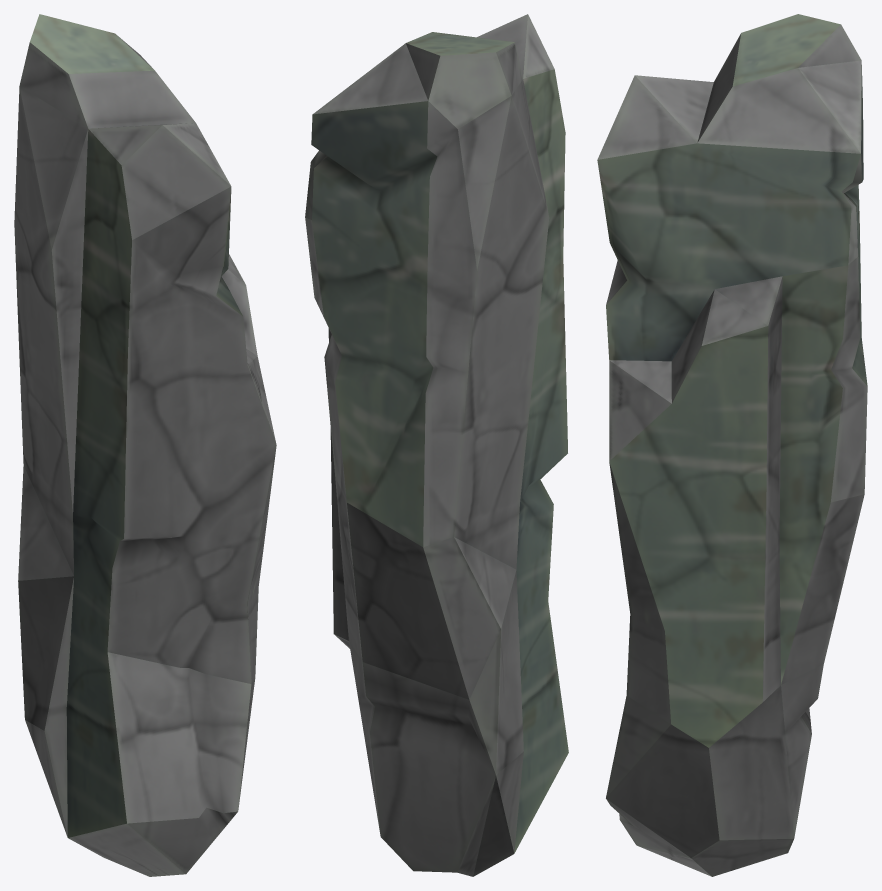
The model's file is obj_harvest_stonechunk01.fbx.
3 views of the same model, side by side, from view 1: azimuth 30°, elevation 25°; view 2: azimuth 150°, elevation 25°; view 3: azimuth 270°, elevation 25° (orthographic). The views are drawn at different scales.
Parts seen in each view (by area): view 1: hvs_rock_chunk01; view 2: hvs_rock_chunk01; view 3: hvs_rock_chunk01.
Part boxes in pixels (x1=…): hvs_rock_chunk01: x1=14, y1=14, x2=276, y2=876; hvs_rock_chunk01: x1=305, y1=14, x2=568, y2=876; hvs_rock_chunk01: x1=597, y1=14, x2=867, y2=876.
Bounding box in the file's own units: 1.95 × 8.16 × 2.41.
